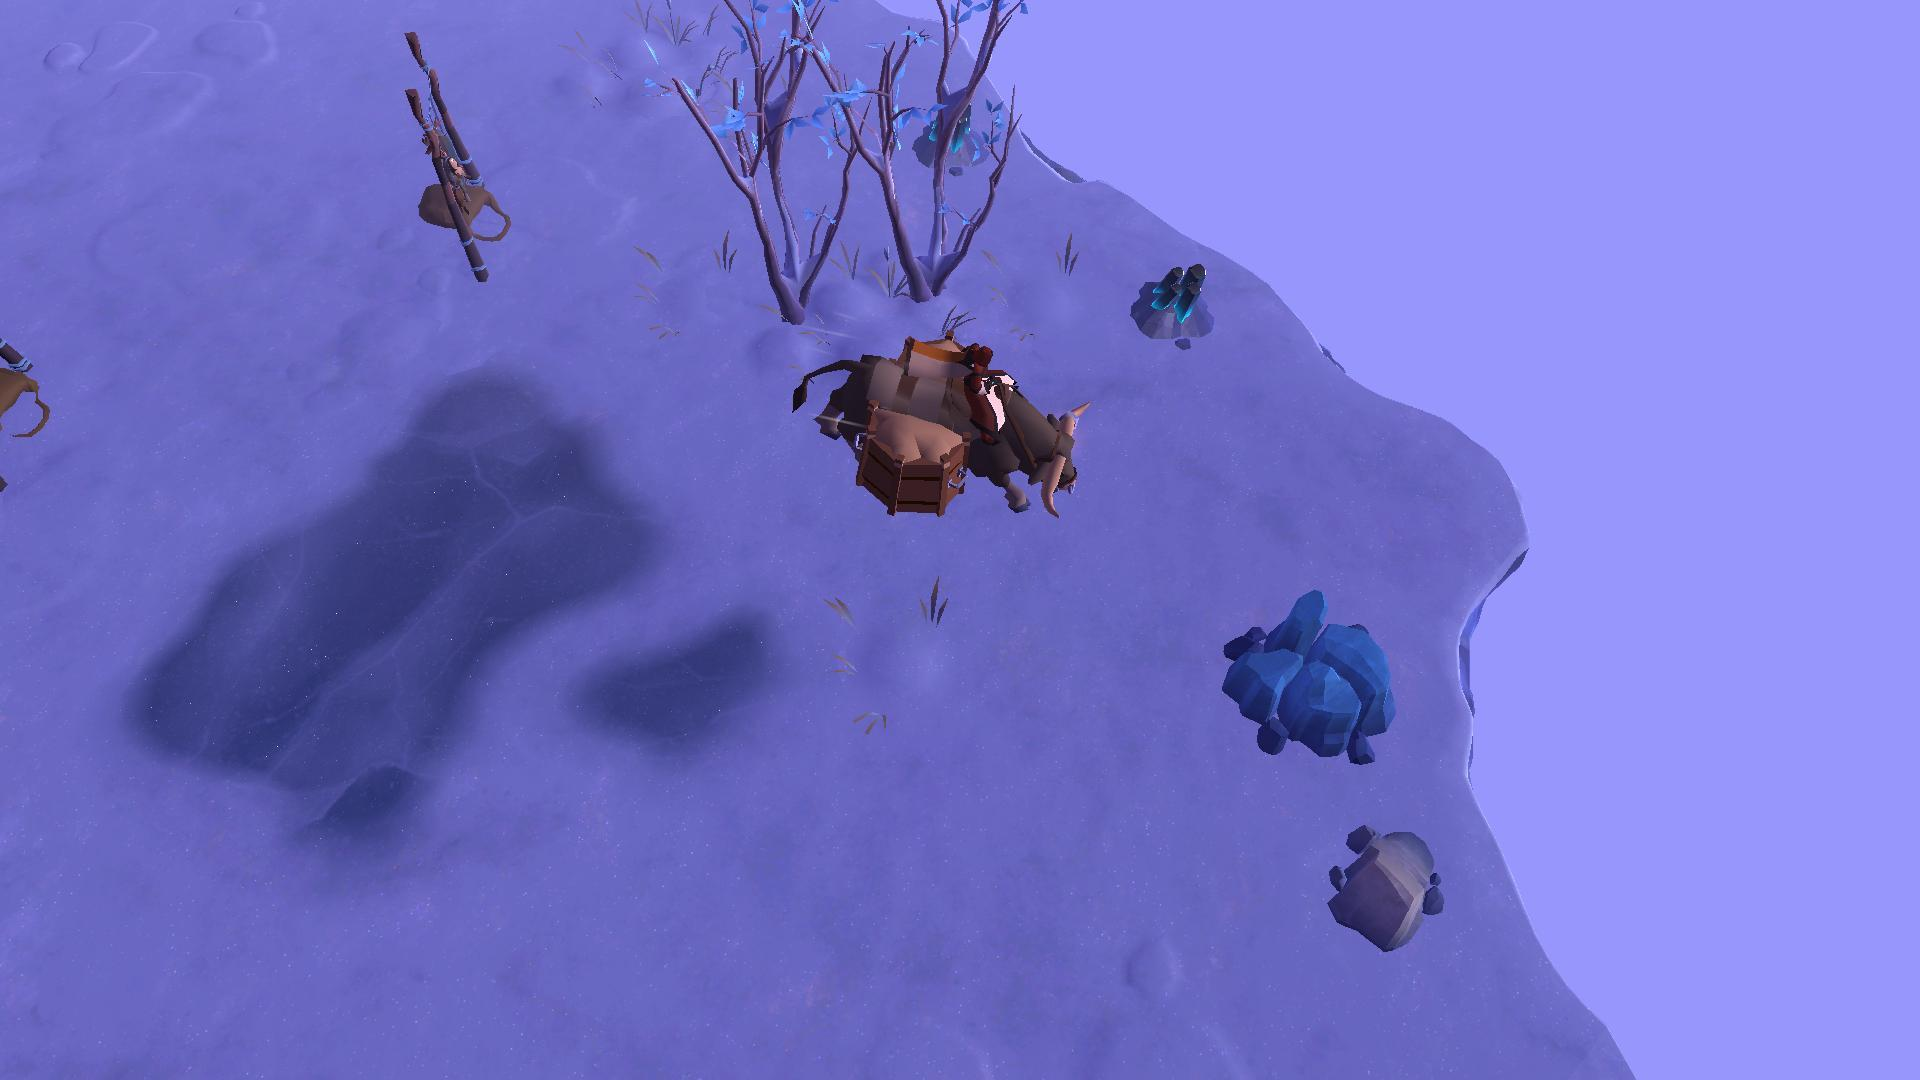ore_t4: (1138, 262, 1208, 328)
rock_t4: (1224, 592, 1393, 762)
